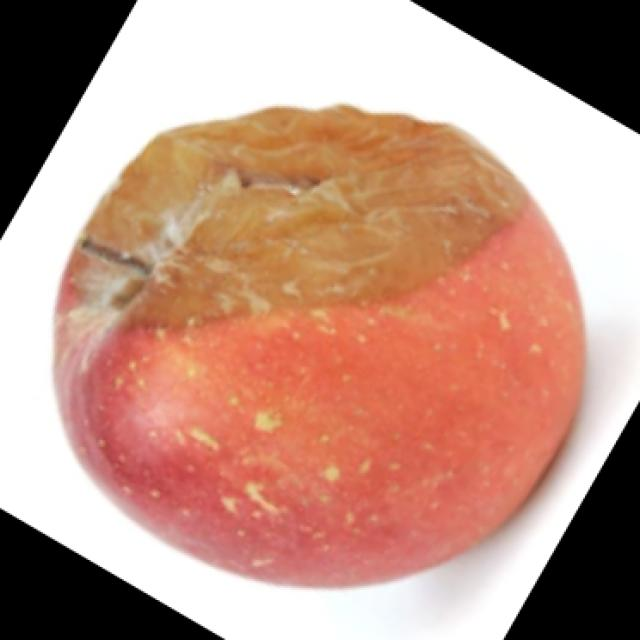Rotten: (50, 94, 585, 598)
